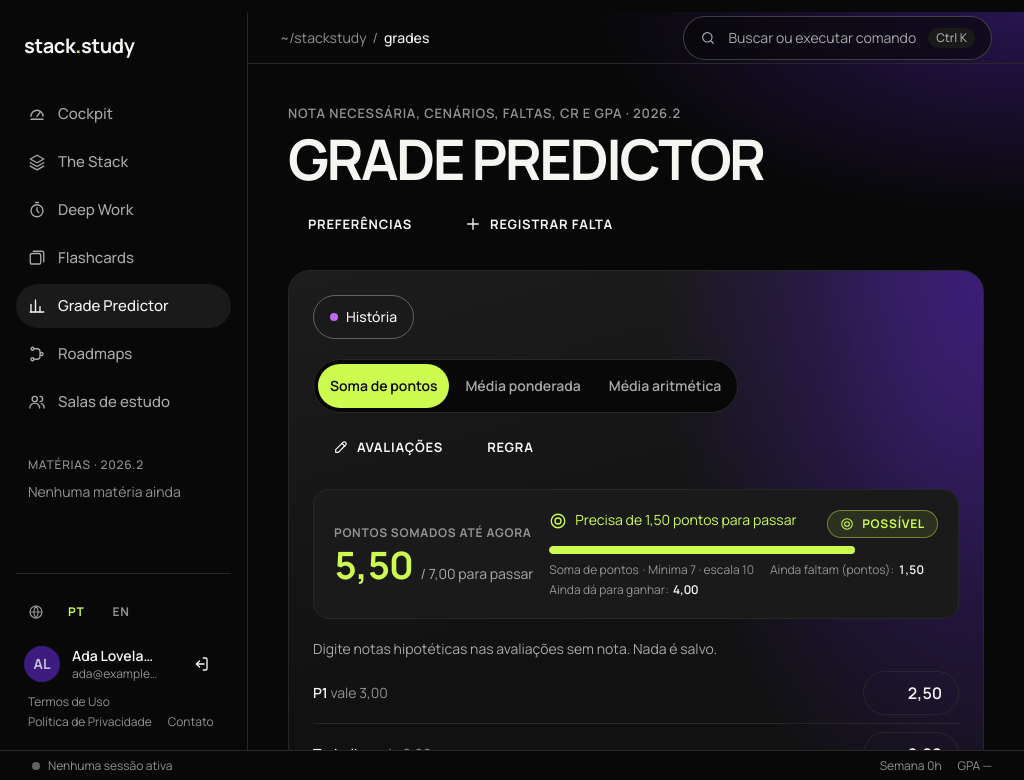
Grade Predictor em soma de pontos › simula "e se eu tirar N" na hora, sem salvar nada
This screenshot has width=1024, height=780.
Click the tab "História".
click(364, 317)  # box [313, 295, 414, 339]
(page scrolled)
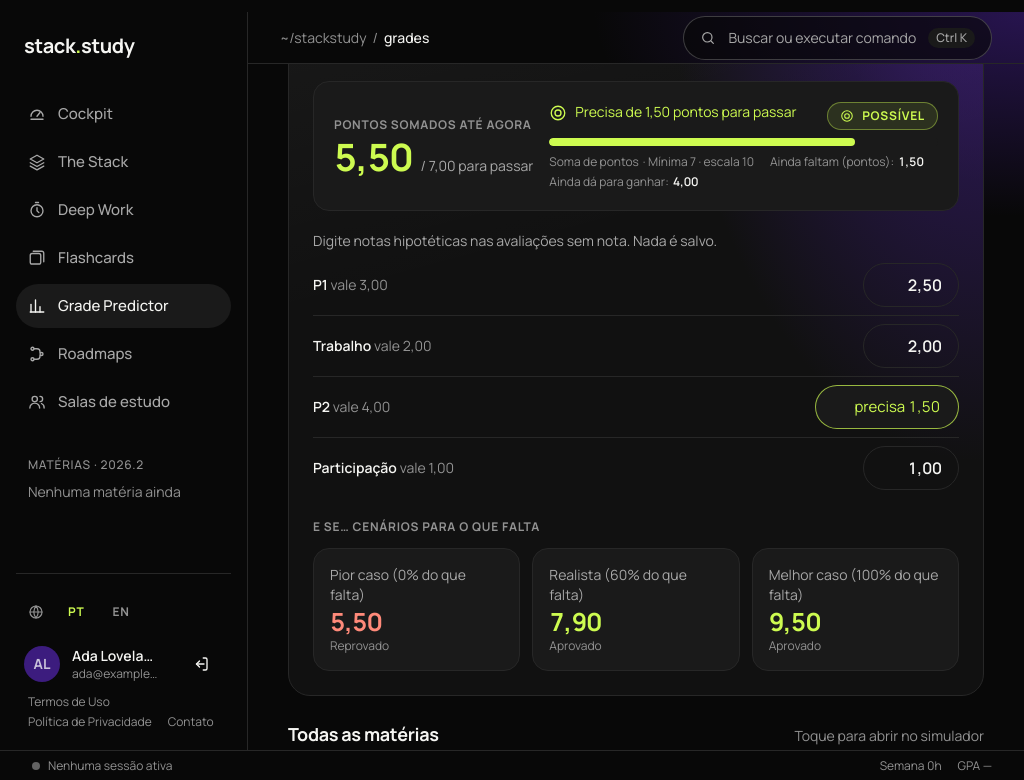
Type "1,5" into the field named "E se eu tirar em P2".
click(887, 407); type("1,5")  # box [815, 385, 959, 429]
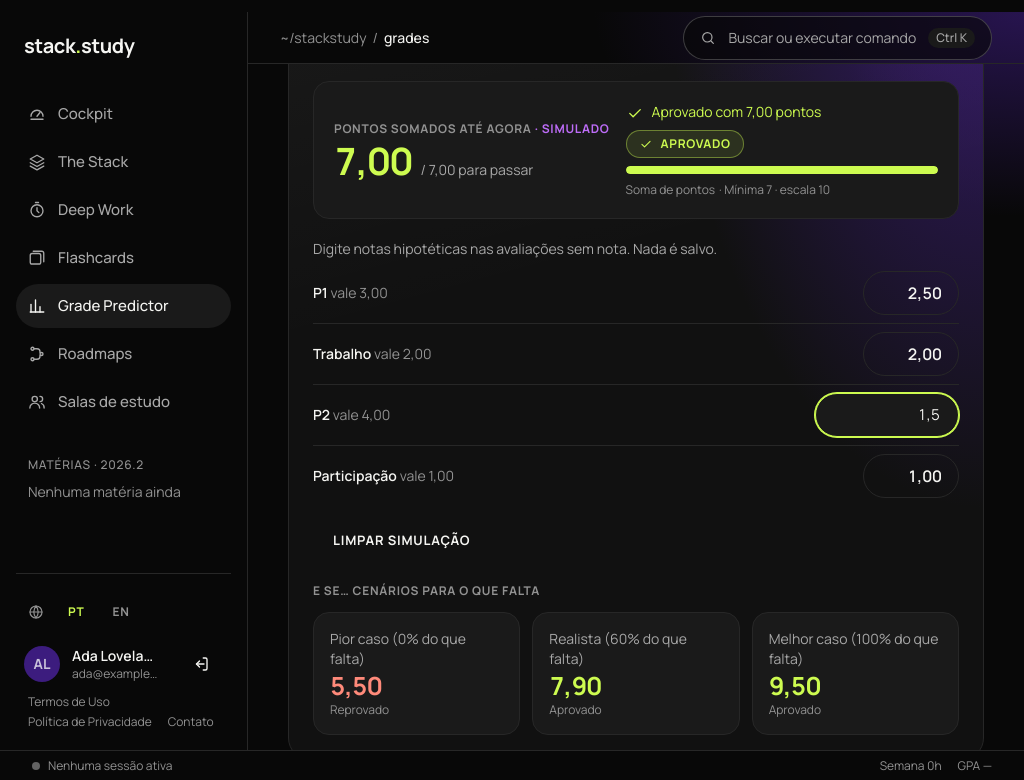
Result: the text "7,00" is shown at [334, 142, 412, 180]
Result: the text "Aprovado" is shown at [626, 130, 744, 158]
Clear the field named "E se eu tirar em P2" at (887, 415), box [815, 393, 959, 437]
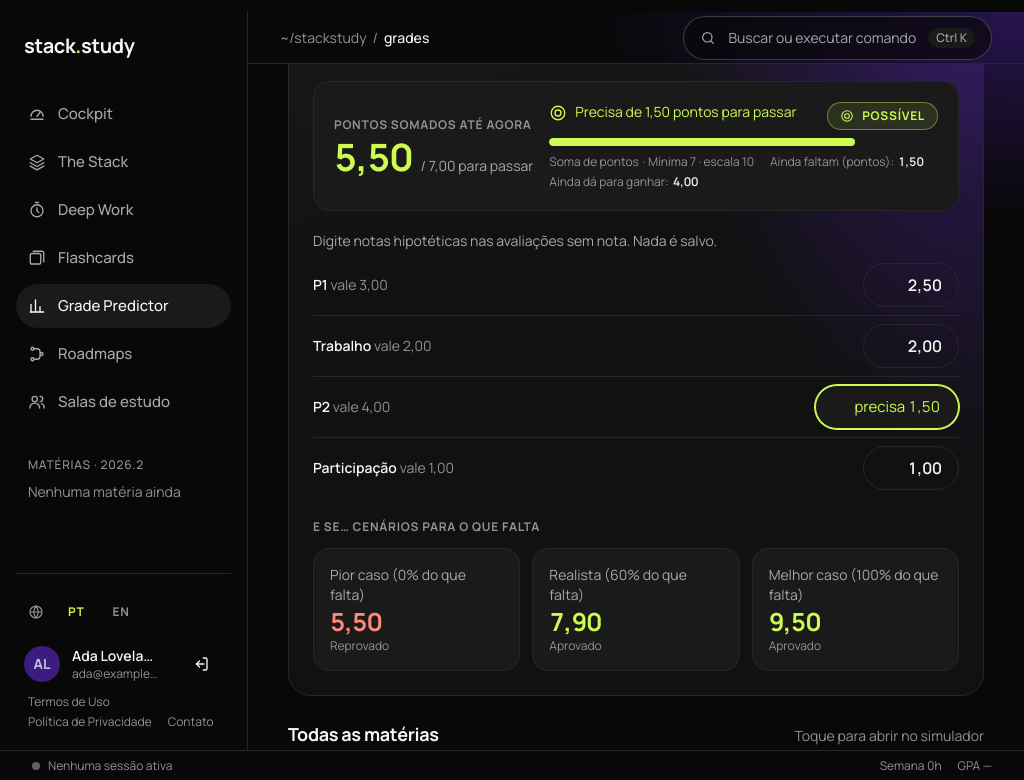
Type "1,49" into the field named "E se eu tirar em P2".
click(887, 407); type("1,49")  # box [815, 385, 959, 429]
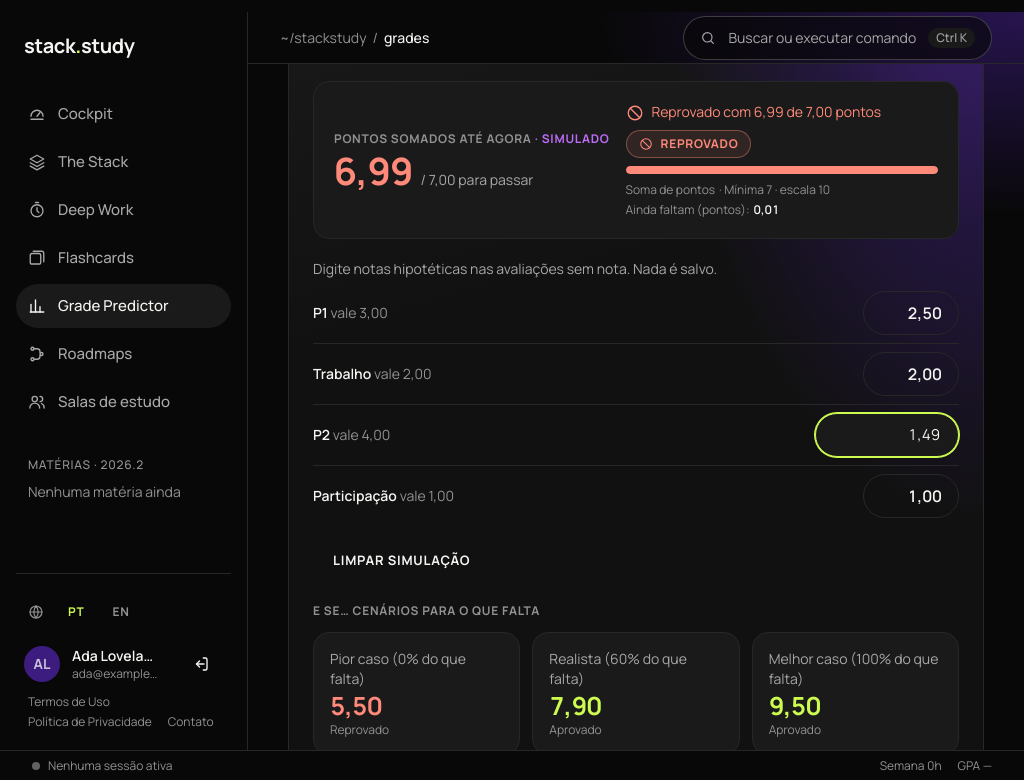
Result: the text "6,99" is shown at [334, 152, 412, 190]
Result: the text "Reprovado" is shown at [626, 130, 751, 158]
Clear the field named "E se eu tirar em P2" at (887, 435), box [815, 413, 959, 457]
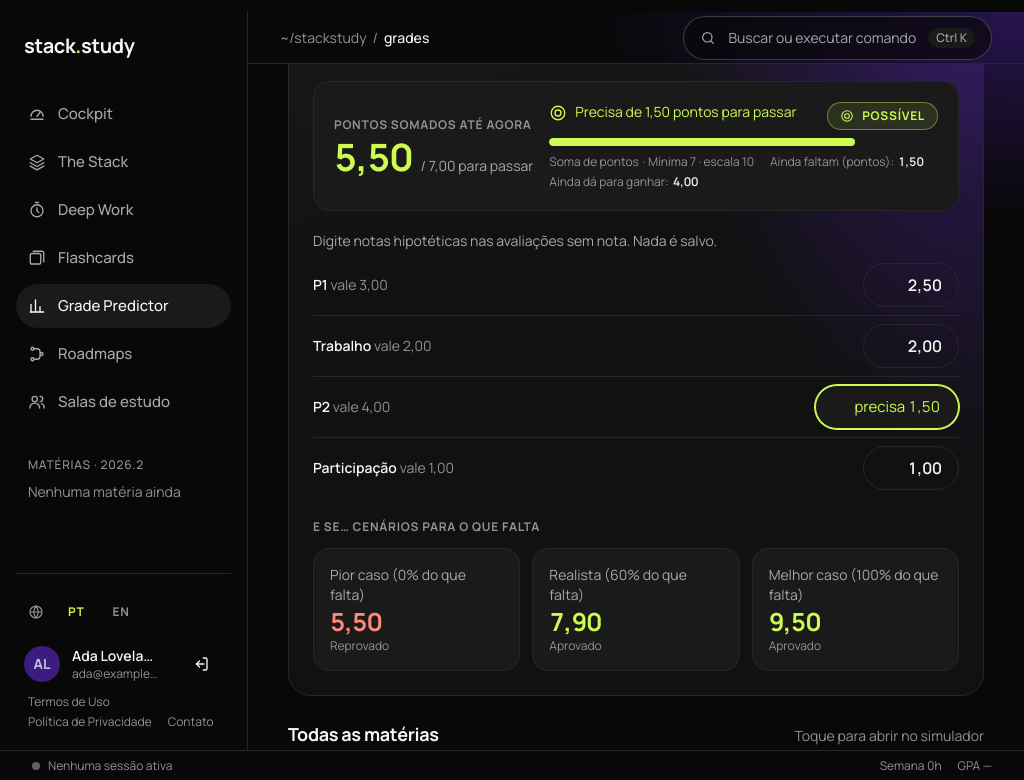
Type "4,5" into the field named "E se eu tirar em P2".
click(887, 407); type("4,5")  # box [815, 385, 959, 429]
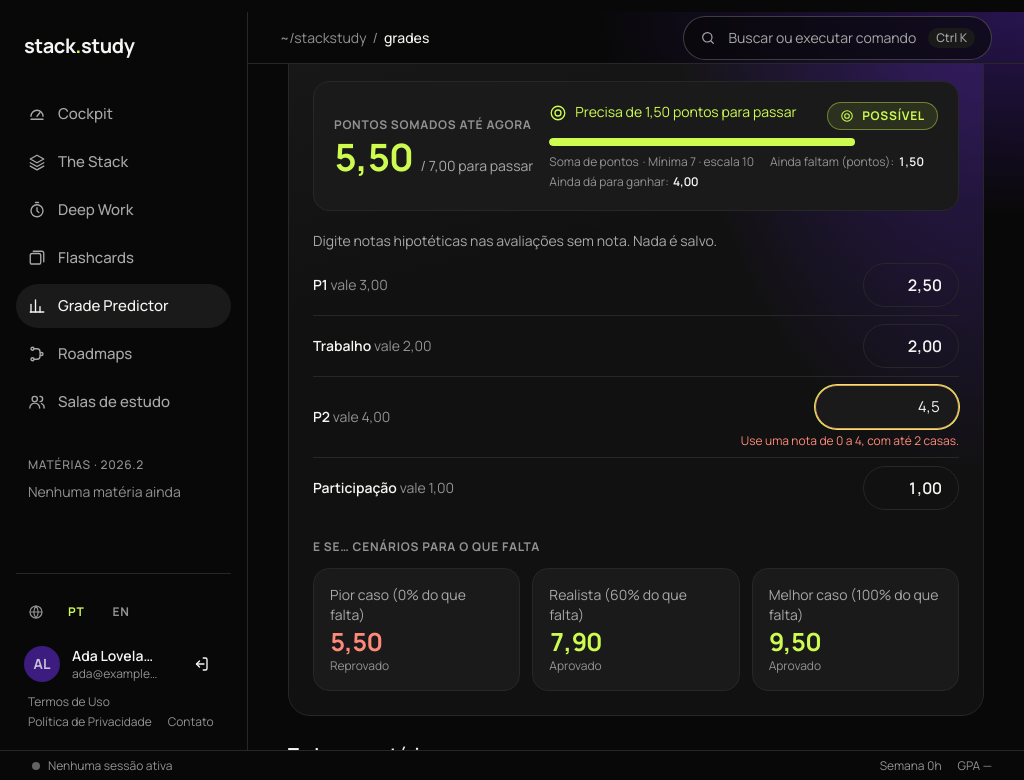
Result: the text "Use uma nota de 0 a 4, com até 2 casas." is shown at [741, 433, 959, 449]
